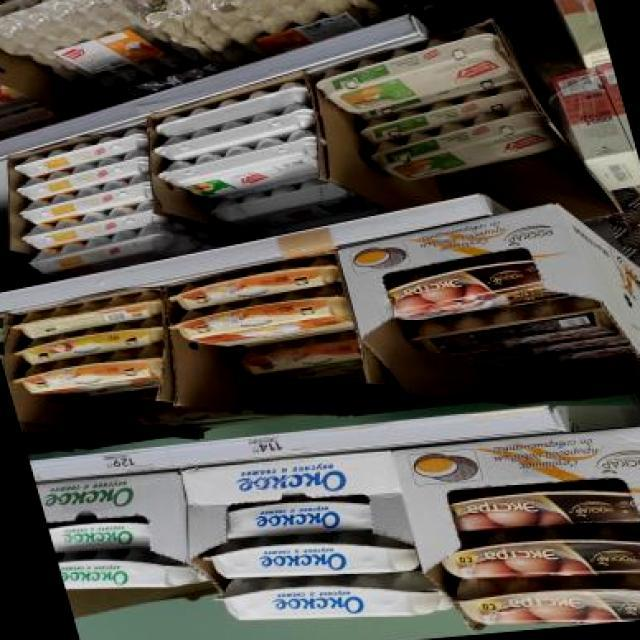egg: (304, 28, 516, 116), (434, 510, 640, 592), (358, 105, 568, 185), (367, 251, 586, 325), (212, 568, 454, 634), (447, 558, 640, 636), (200, 526, 424, 589), (447, 473, 640, 538), (166, 288, 355, 349), (164, 256, 343, 310), (56, 542, 210, 596), (18, 347, 168, 398), (8, 319, 170, 366), (222, 496, 383, 540), (228, 335, 368, 381), (48, 514, 152, 558)
